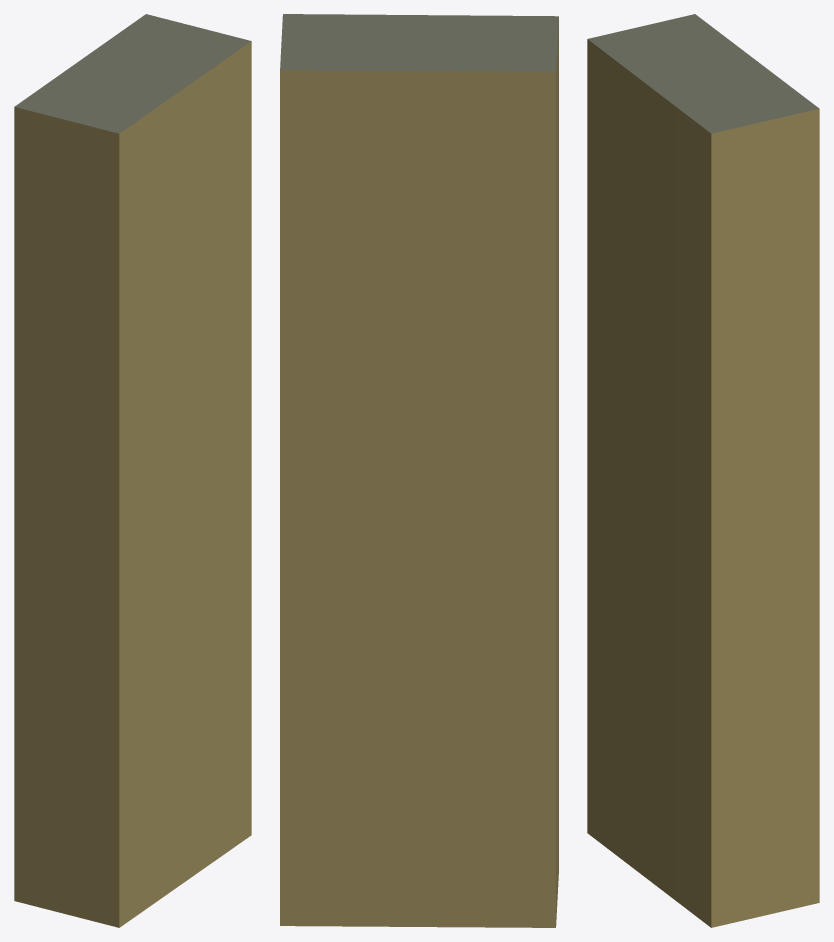
The model's file is nyc-1034199-0.glb.
3 renders of one model, left to right at view 1: azimuth 30°, elevation 25°; view 2: azimuth 150°, elevation 25°; view 3: azimuth 270°, elevation 25°, orthographic. The views are drawn at different scales.
Parts seen in each view (by area): view 1: nyc-1034199-0; view 2: nyc-1034199-0; view 3: nyc-1034199-0.
Boxes of the visible parts, x1,y1,x2,y2 form: nyc-1034199-0: (14, 14, 251, 927); nyc-1034199-0: (280, 14, 558, 927); nyc-1034199-0: (587, 14, 819, 927).
Size of the model in its own units: 69.46 by 215 by 56.91.
